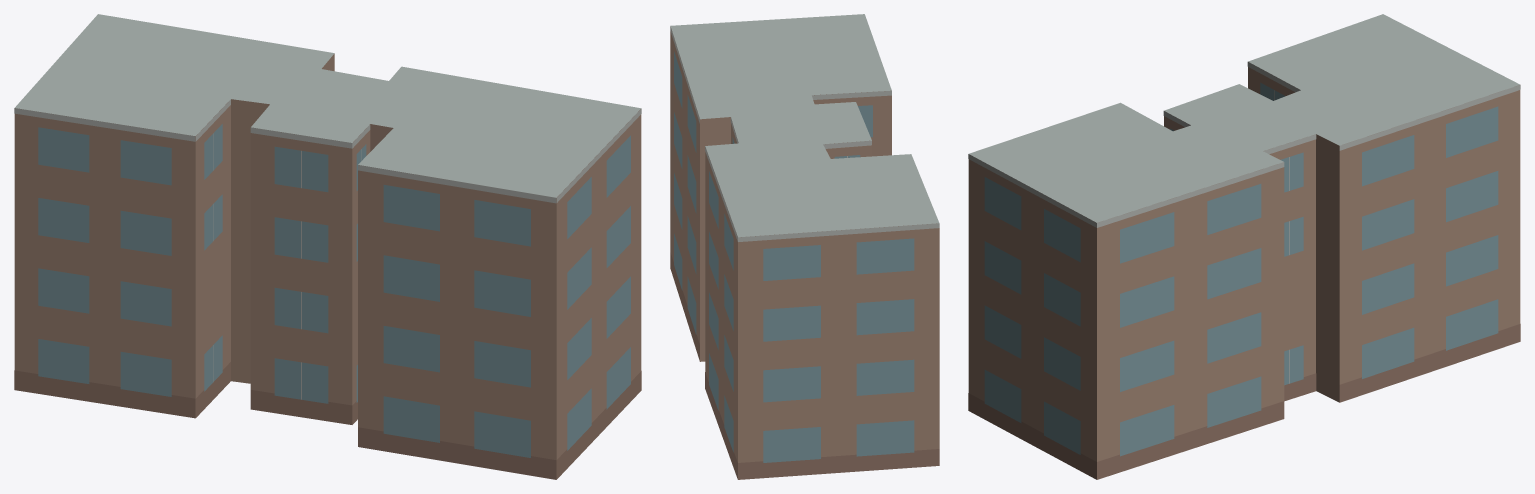
The model's file is survey-upis-32677256.glb.
3 renders of one model, left to right at view 1: azimuth 30°, elevation 25°; view 2: azimuth 150°, elevation 25°; view 3: azimuth 270°, elevation 25°, orthographic. The views are drawn at different scales.
Visible parts, largest first — view 1: survey-upis-32677256.tmp; view 2: survey-upis-32677256.tmp; view 3: survey-upis-32677256.tmp.
Boxes of the visible parts, box(x1,y1,x2,y2) form: survey-upis-32677256.tmp: box(14, 14, 641, 479); survey-upis-32677256.tmp: box(670, 14, 939, 479); survey-upis-32677256.tmp: box(968, 14, 1520, 479).
Bounding box in the file's own units: 21.28 × 12.2 × 23.75.
